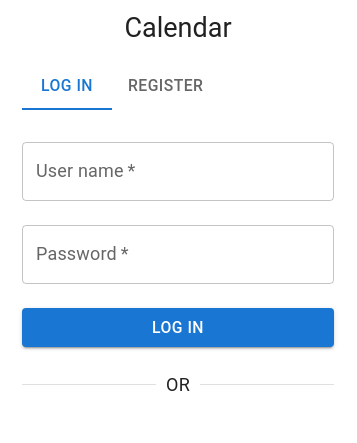
Test: LoginForm › näyttää virheilmoituksen, jos kirjautuminen epäonnistuu
Type "testi" into the field labelled "User name *".
click(178, 171); type("testi")  # box [22, 142, 334, 201]
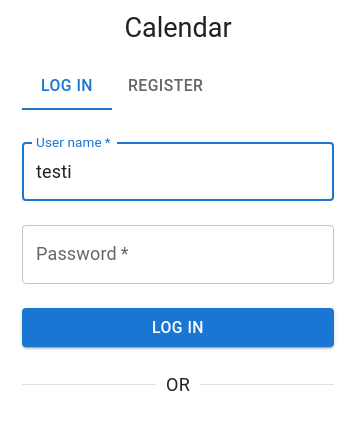
Type "vaara" into the password field labelled "Password *".
click(178, 254); type("vaara")  # box [22, 225, 334, 284]
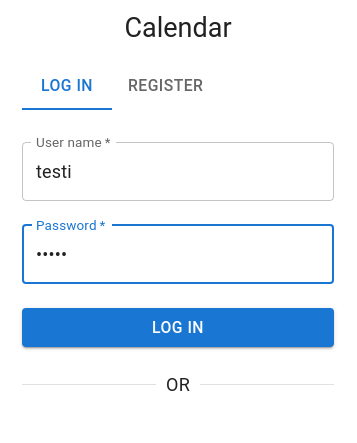
Click the button "Log in".
click(178, 328)  # box [22, 308, 334, 347]
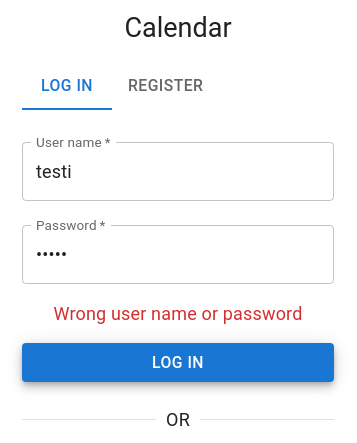
Check: the text "Wrong user name or password" is shown, box [54, 303, 303, 324]
